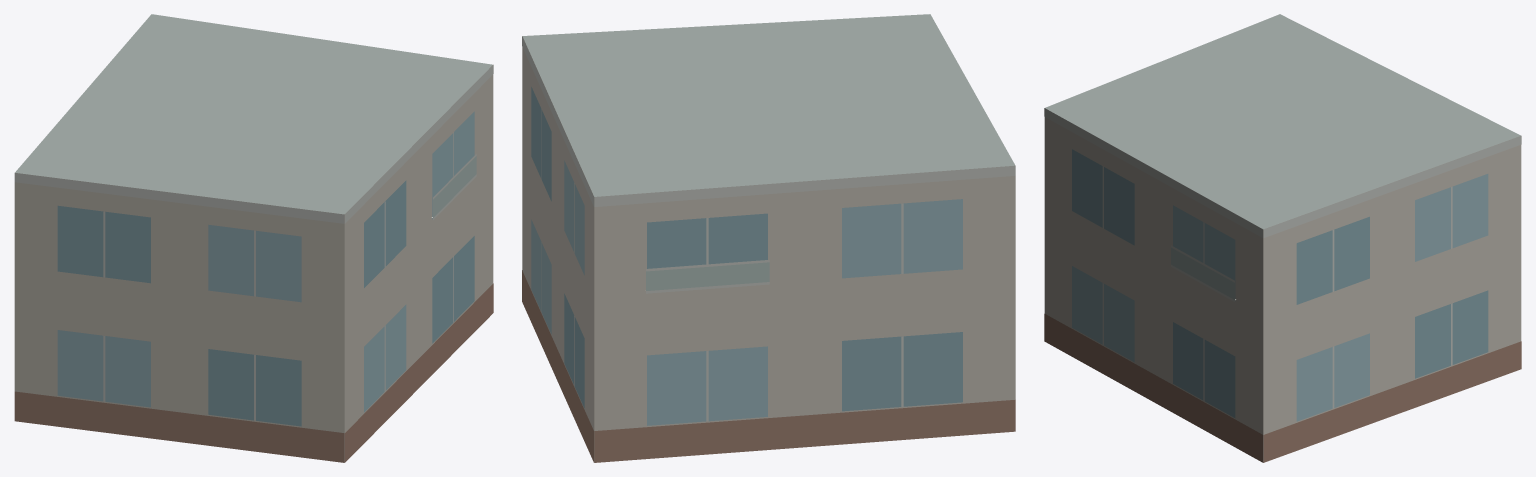
Rendered from survey-upis-32605739.glb.
3 renders of one model, left to right at view 1: azimuth 30°, elevation 25°; view 2: azimuth 150°, elevation 25°; view 3: azimuth 270°, elevation 25°, orthographic. The views are drawn at different scales.
Parts seen in each view (by area): view 1: survey-upis-32605739.tmp; view 2: survey-upis-32605739.tmp; view 3: survey-upis-32605739.tmp.
Boxes of the visible parts, bbox=[...] form: survey-upis-32605739.tmp: bbox=[14, 14, 493, 462]; survey-upis-32605739.tmp: bbox=[522, 14, 1015, 462]; survey-upis-32605739.tmp: bbox=[1044, 14, 1521, 462].
Bounding box in the file's own units: 12.67 × 6.4 × 11.85.
